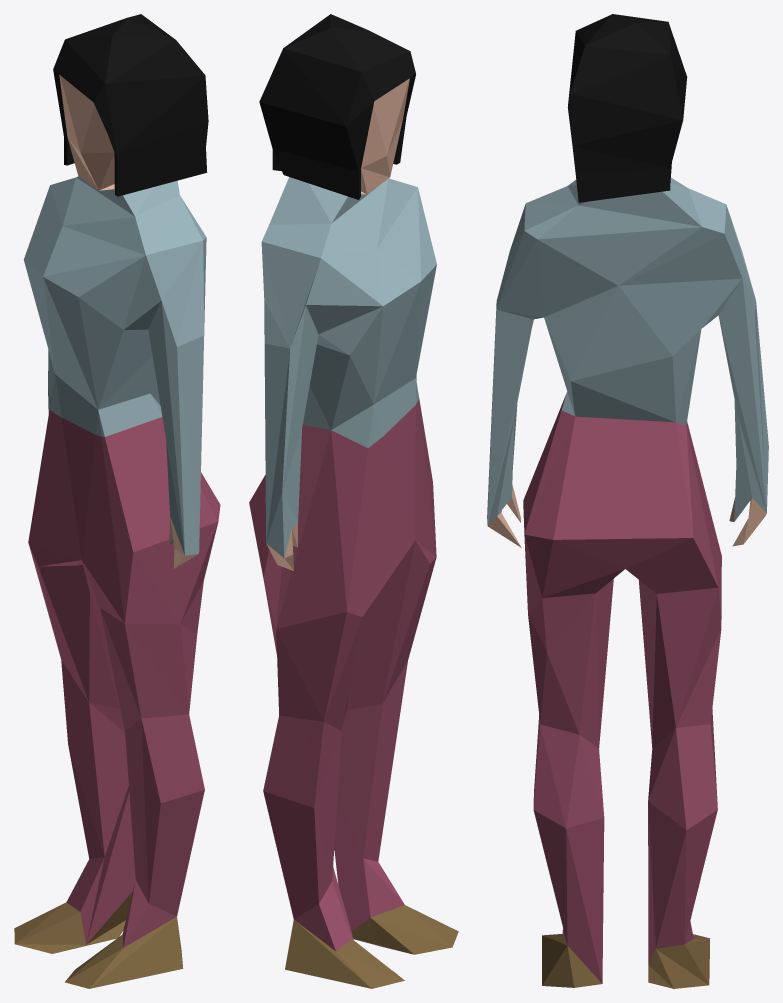
The model's file is woman.fbx.
3 views of the same model, side by side, from view 1: azimuth 30°, elevation 25°; view 2: azimuth 150°, elevation 25°; view 3: azimuth 270°, elevation 25° (orthographic). The views are drawn at different scales.
Parts seen in each view (by area): view 1: Woman; view 2: Woman; view 3: Woman.
Boxes of the visible parts, x1,y1,x2,y2 form: Woman: (14, 14, 220, 988); Woman: (249, 14, 458, 988); Woman: (487, 14, 768, 988).
Bounding box in the file's own units: 89.84 × 537 × 143.
